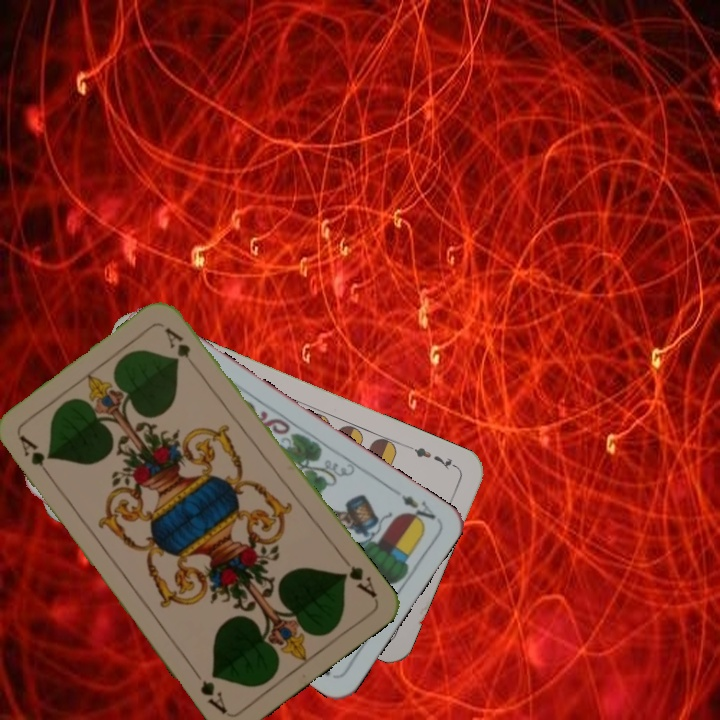E7: (404, 441, 460, 473)
EA: (397, 490, 439, 529)
GA: (15, 431, 56, 483), (337, 553, 380, 601)
